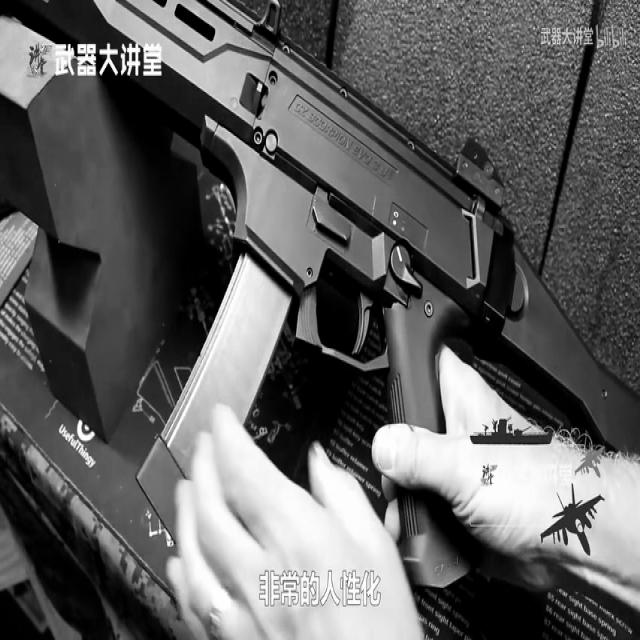Sub-machine-gun: (68, 0, 640, 600)
